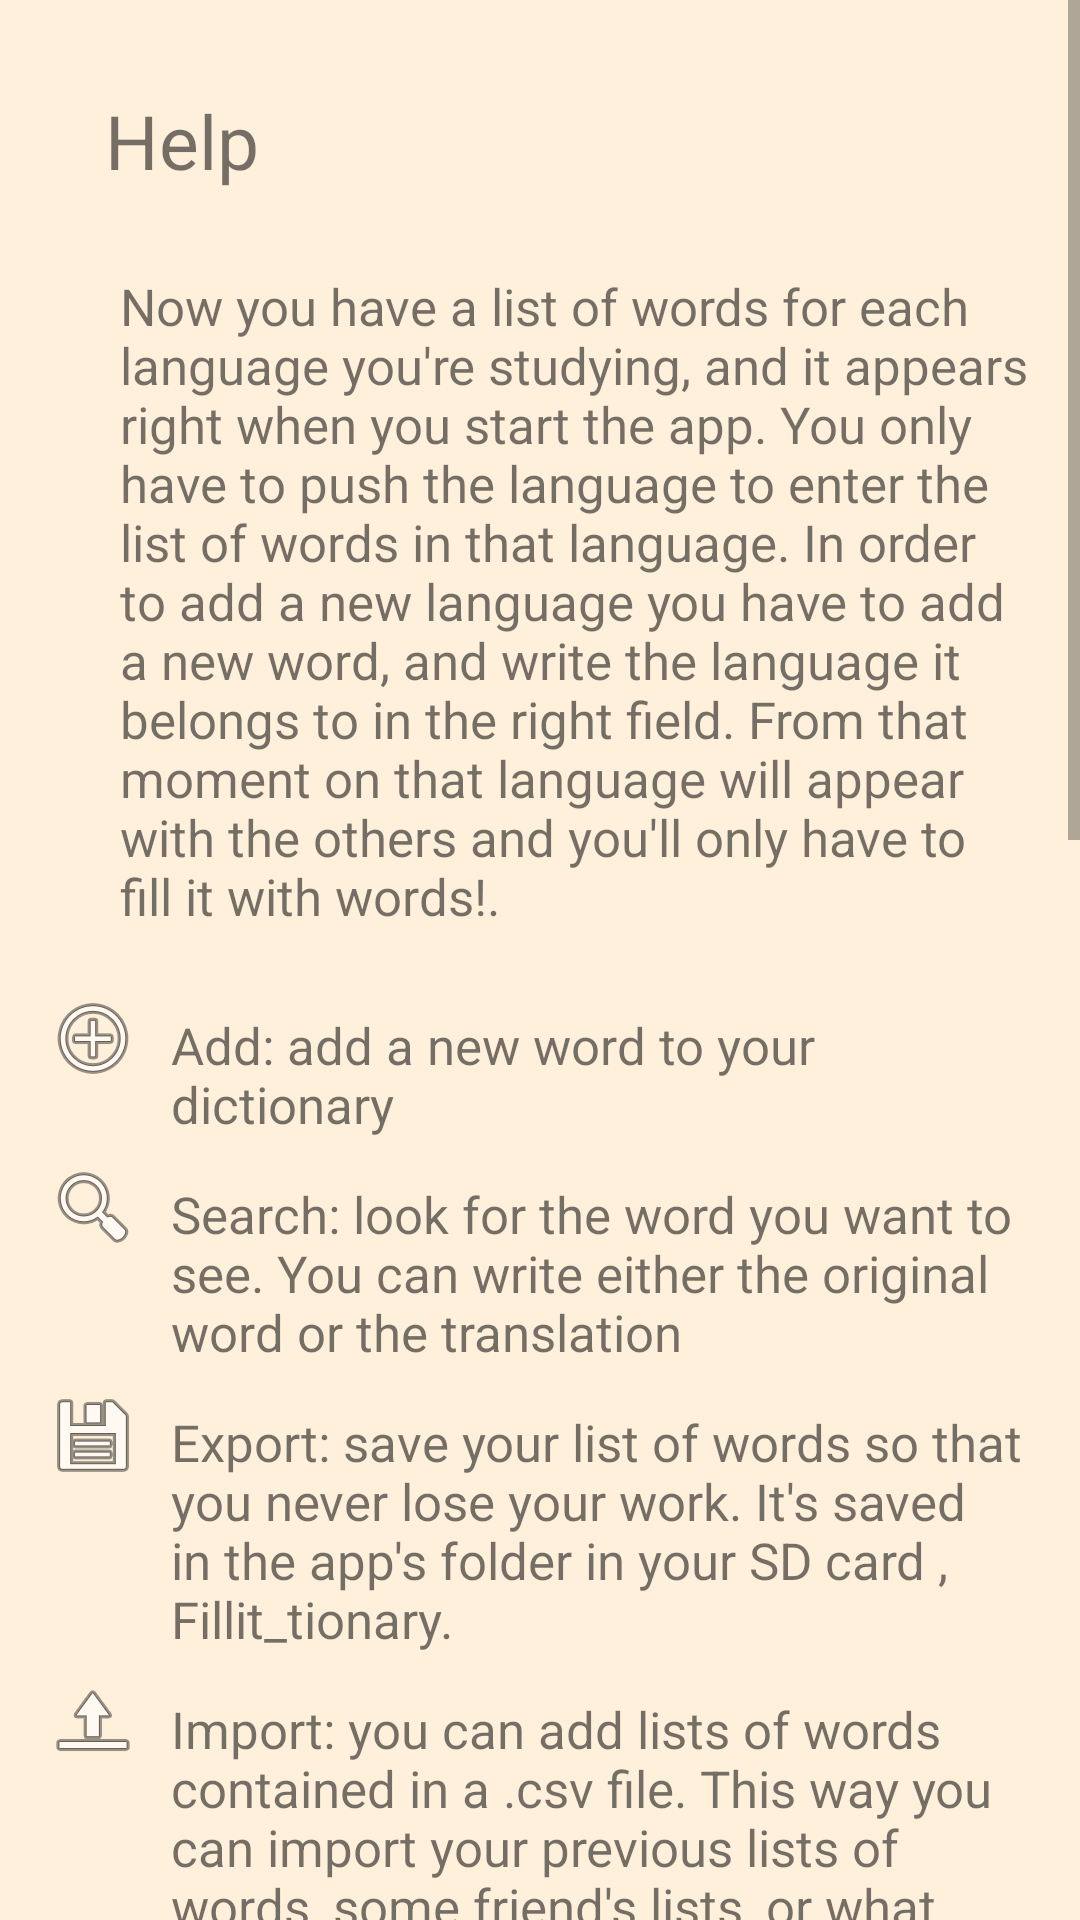

Icons on this 1080 × 1920 Android screen, each with the point to tap as (x,y):
upload: (93,1720)
